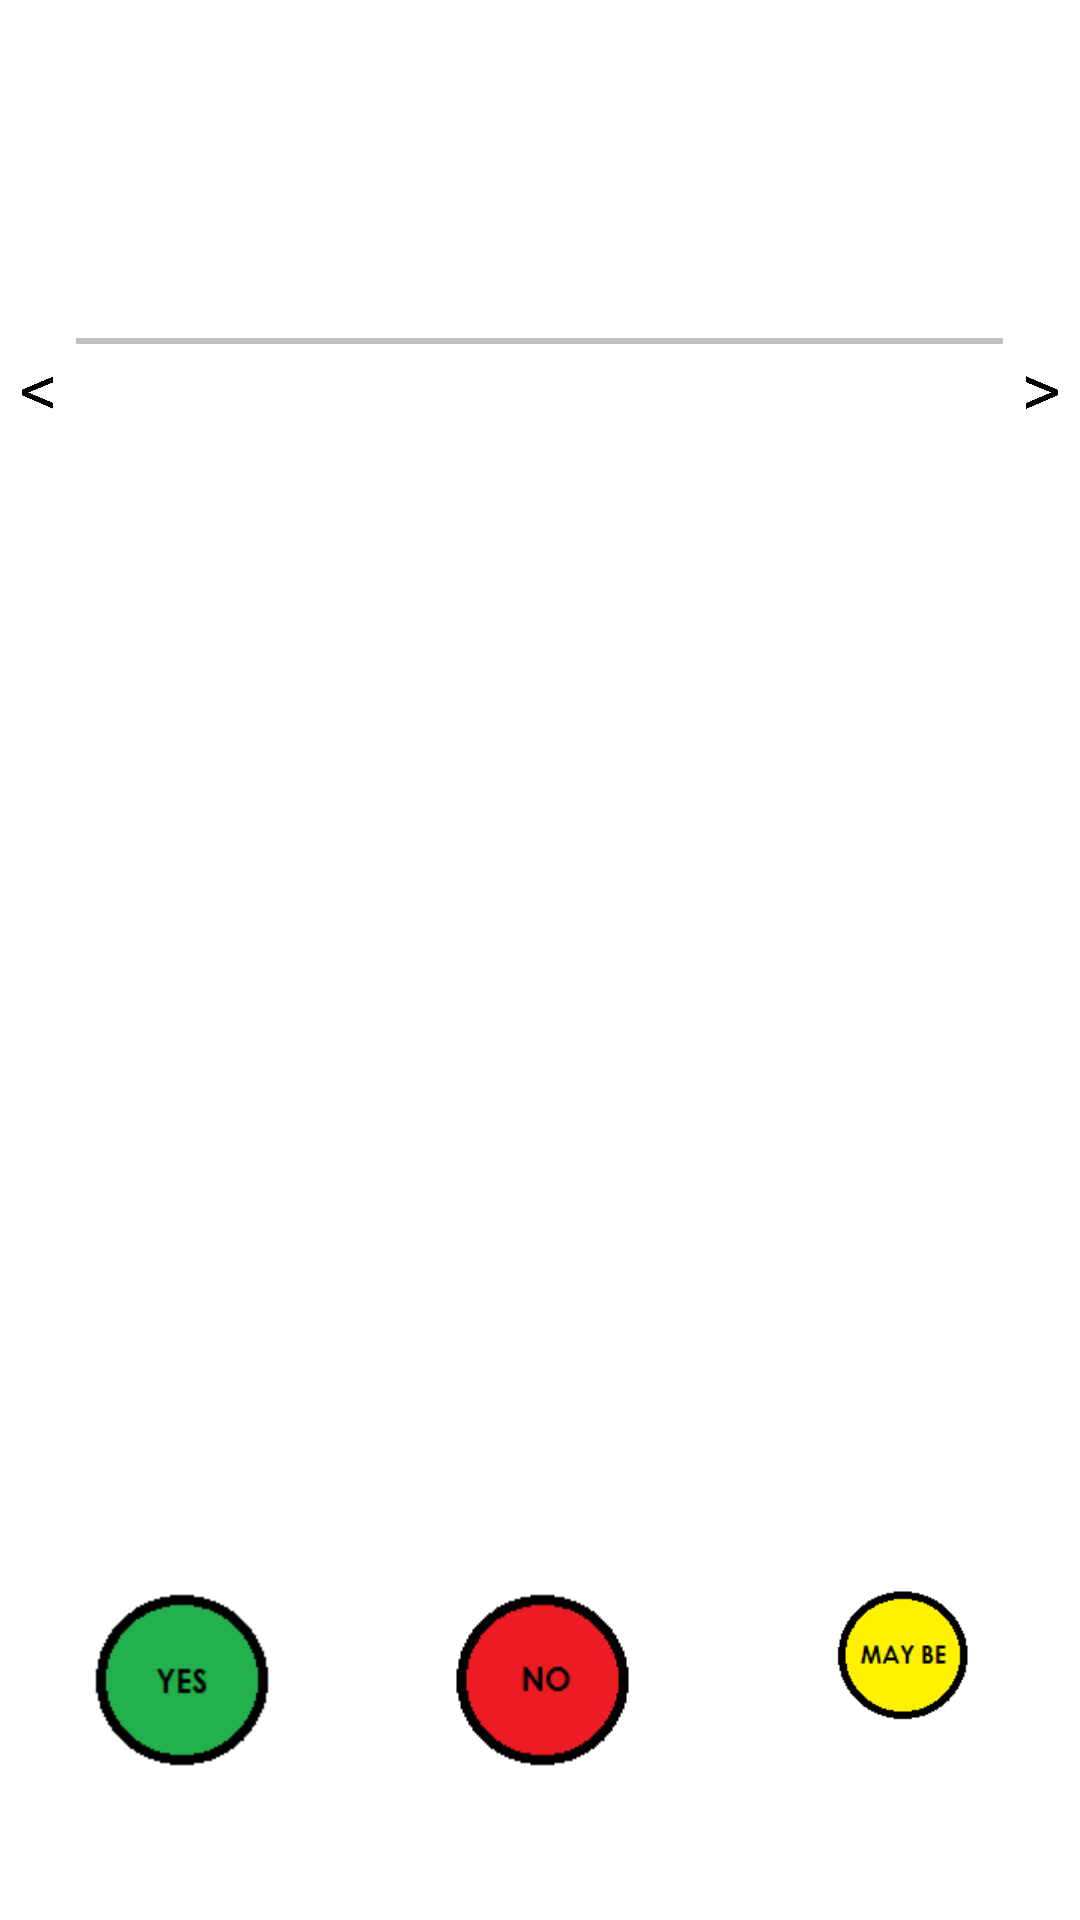

Named icons in this screenshot (1080 × 1920) and their bounding boxes, {"left": x1, "top": y1, "right": x2, "bottom": y2}:
next: {"left": 1026, "top": 376, "right": 1058, "bottom": 409}
previous: {"left": 22, "top": 377, "right": 53, "bottom": 409}
